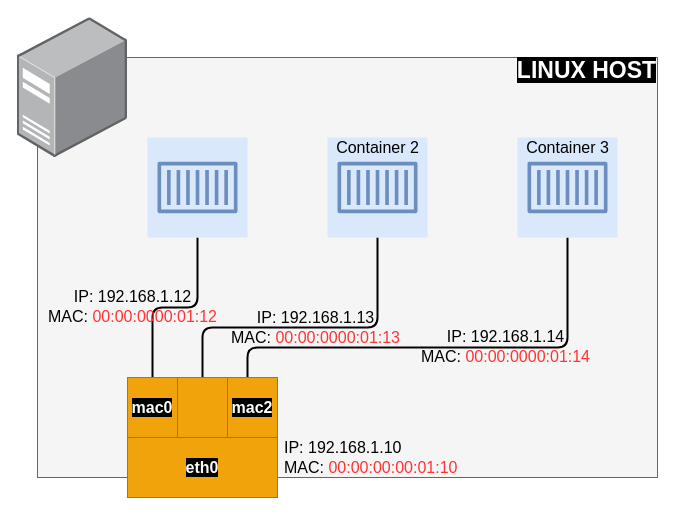
Image size: 679x515. Some labels were removed from this diagram. Each missing label, with the centre of its shape:
Container 1: point 197,187
mac1: point 202,407
